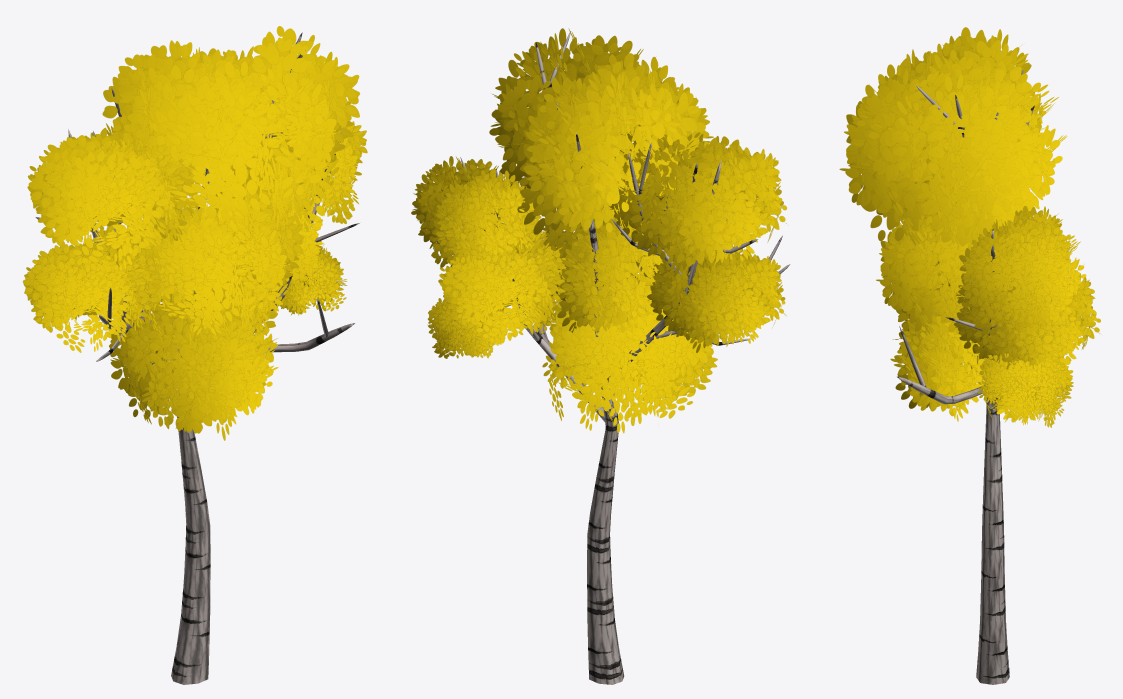
Rendered from birch-tall.glb.
3 views of the same model, side by side, from view 1: azimuth 30°, elevation 25°; view 2: azimuth 150°, elevation 25°; view 3: azimuth 270°, elevation 25° (orthographic). The views are drawn at different scales.
Visible parts, largest first — view 1: Authored structure; view 2: Authored structure; view 3: Authored structure.
Part boxes in pixels (x1,y1,x2,y2): Authored structure: (23,26,367,684); Authored structure: (411,28,790,684); Authored structure: (839,27,1100,684).
Size of the model in its own units: 3.43 by 5.75 by 2.27.
2 materials, 2 textured.
